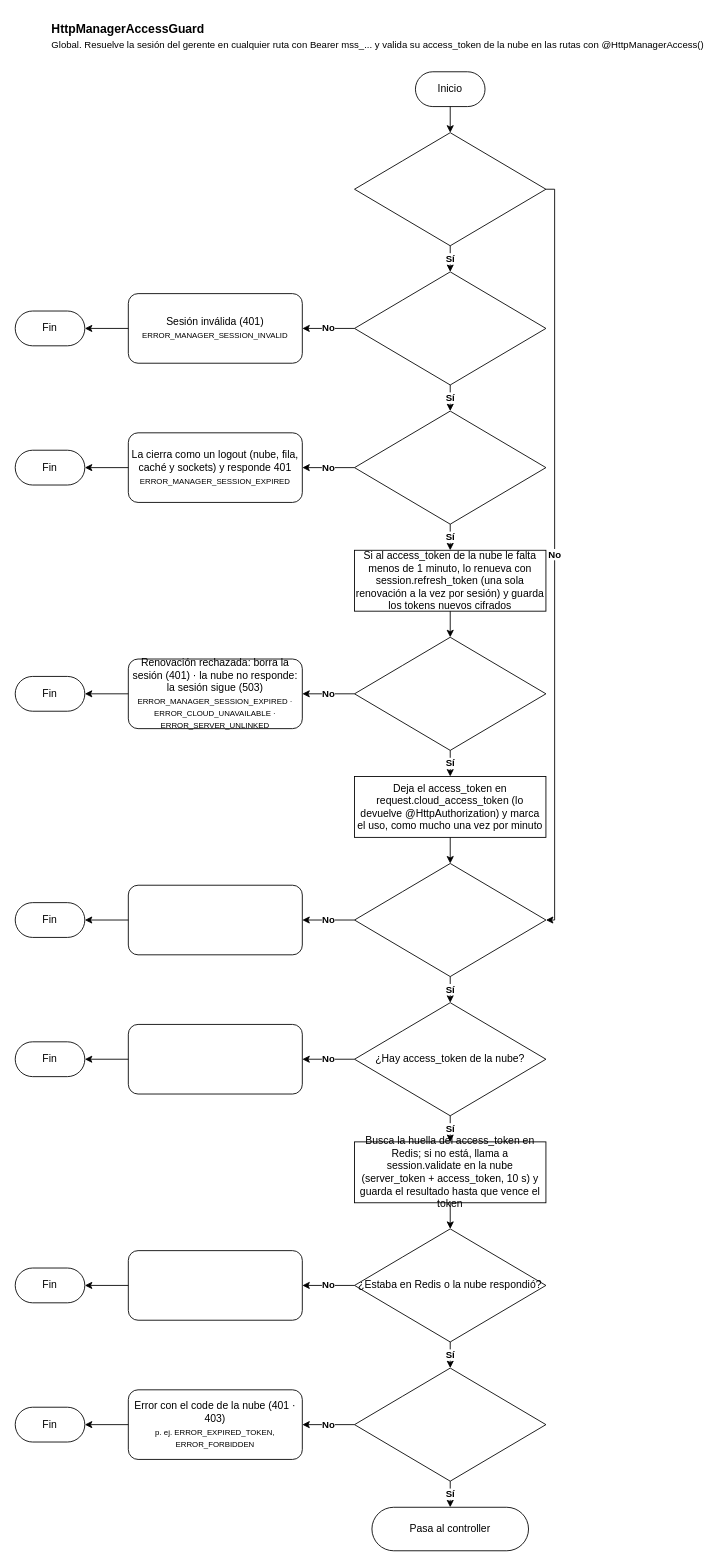
Some shapes in this 719 by 1566 pixel diagram are drawn without their labels. Each missing label, with the centre of its shape:
Falta el token (401) ERROR_MISSING_TOKEN: the point at 214,1059
La nube no responde (503) ERROR_CLOUD_UNAVAILABLE · ERROR_SERVER_UNLINKED: the point at 214,1285
Pasa al controller sin validar con la nube: the point at 214,919
¿Existe la sesión? (se busca por la huella SHA-256 del token): the point at 450,328
¿Hay un access_token vigente?: the point at 450,693
¿La ruta tiene @HttpManagerAccess()?: the point at 450,920
¿La sesión es válida para la nube?: the point at 450,1424
¿Tiene 30 minutos o menos sin uso?: the point at 450,467
¿Trae Authorization: Bearer con un session_token (mss_...)?: the point at 450,189
